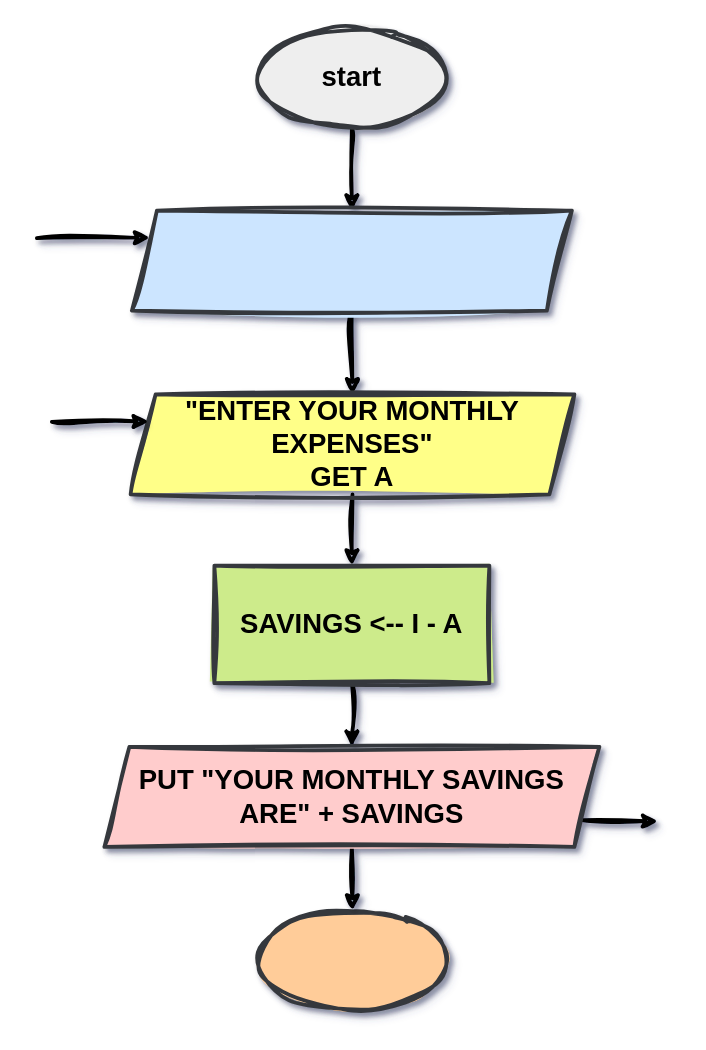
Some shapes in this 706 by 1050 pixel diagram are drawn without their labels. The shapes that lost their labels are listed below. From the top down, each one's centre as x and y in pixels, then its label:
(x=352, y=262): "ENTER YOUR MONTHLY INCOME" GET I
(x=353, y=962): END
